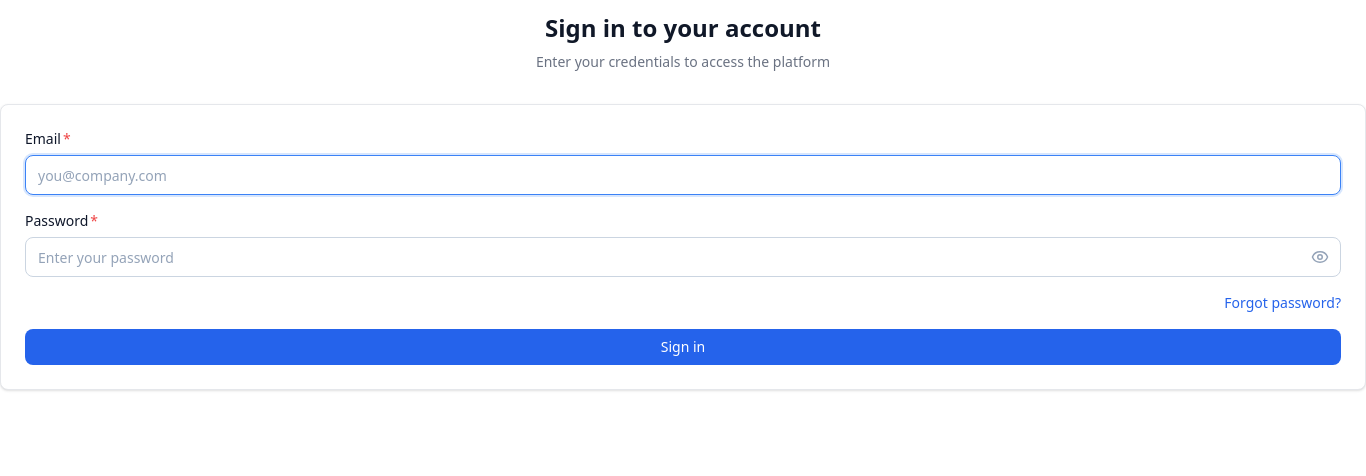
LoginPage › displays server error from Supabase on failed login
The image size is (1366, 476).
Type "wrong@email.com" into the field labelled "Email*".
click(683, 175); type("wrong@email.com")  # box [25,155,1341,195]
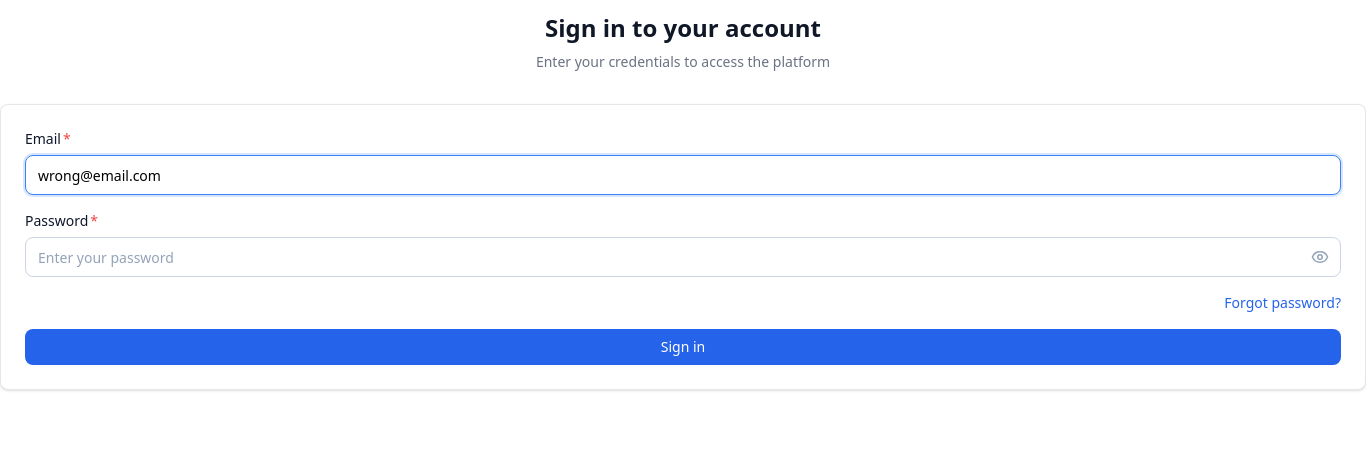
Type "wrongpassword" into the password field labelled "Password*".
click(683, 257); type("wrongpassword")  # box [25,237,1341,277]
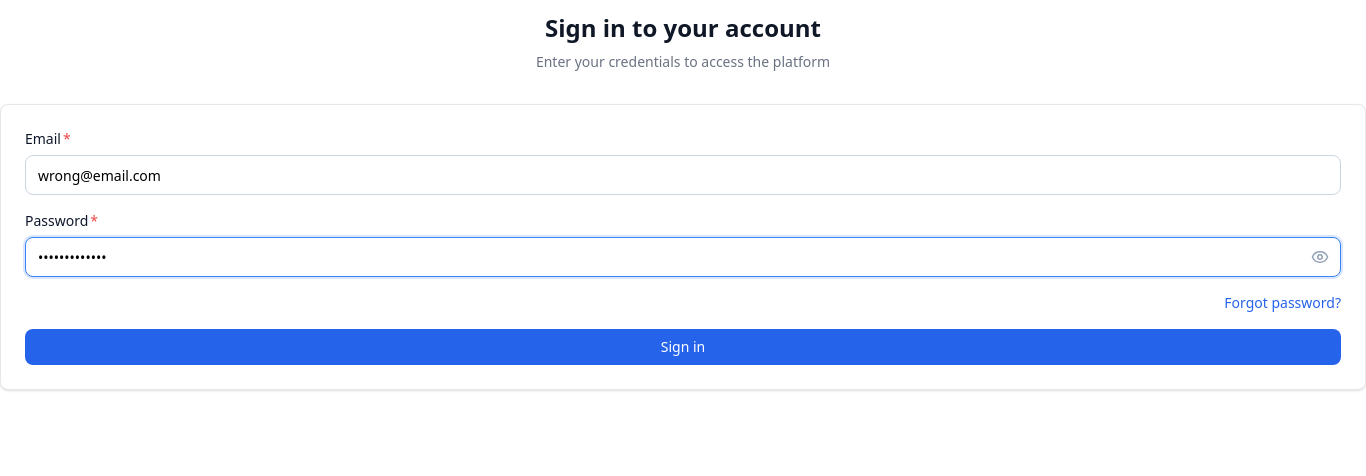
Click the button "Sign in".
click(683, 347)  # box [25,329,1341,365]
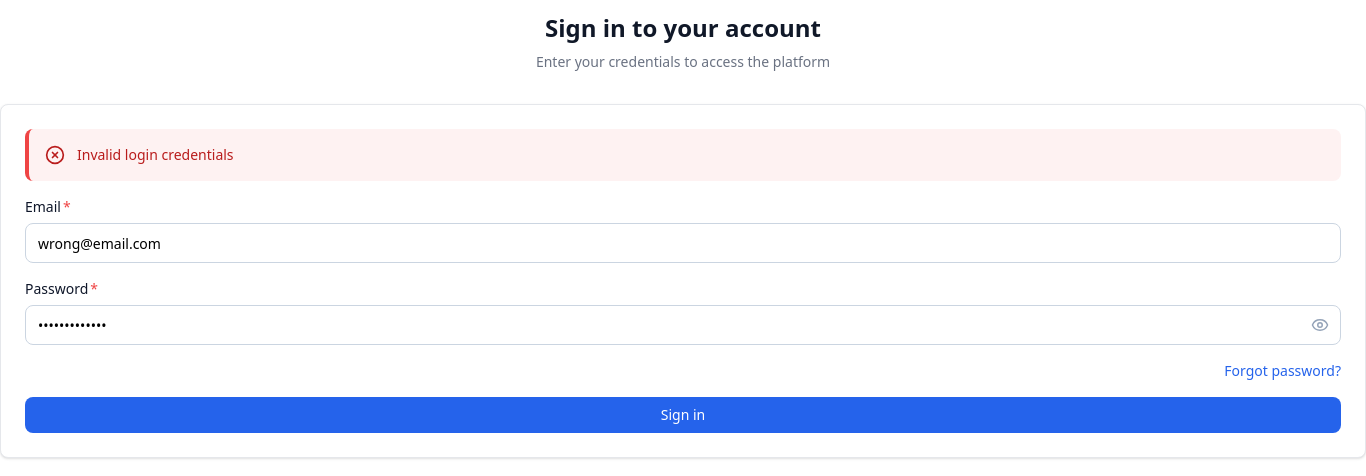
Expected: the text "Invalid login credentials" is shown, [77,145,234,164]
